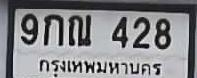2: (132, 16, 149, 48)
4: (111, 16, 127, 47)
8: (154, 17, 170, 48)
9: (20, 12, 37, 44)
A01: (43, 13, 63, 45)
A19: (68, 14, 90, 45)
BKK: (38, 54, 164, 78)
